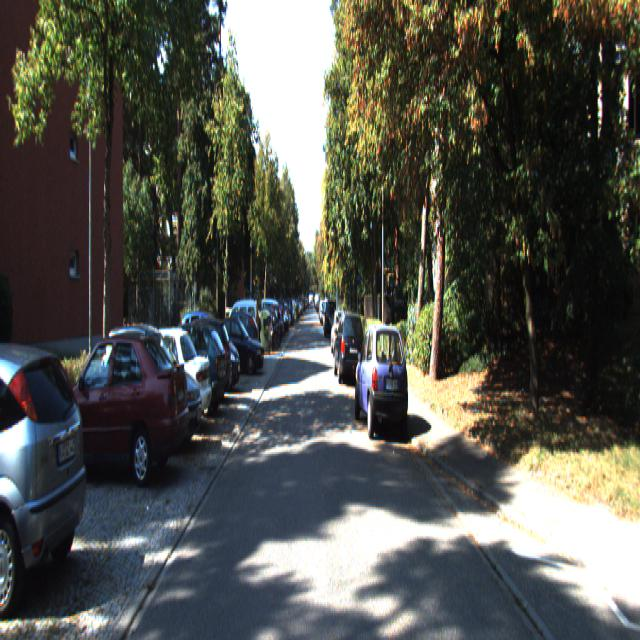Car: (0, 331, 88, 613), (43, 327, 191, 487), (116, 325, 213, 440), (147, 319, 228, 422), (354, 317, 410, 438), (210, 316, 266, 382), (332, 310, 366, 386), (220, 300, 258, 362), (324, 300, 337, 340)
